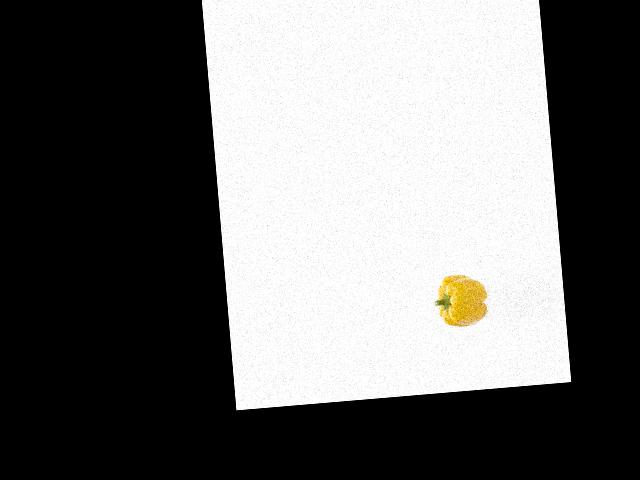bell_pepper: (430, 268, 490, 328)
